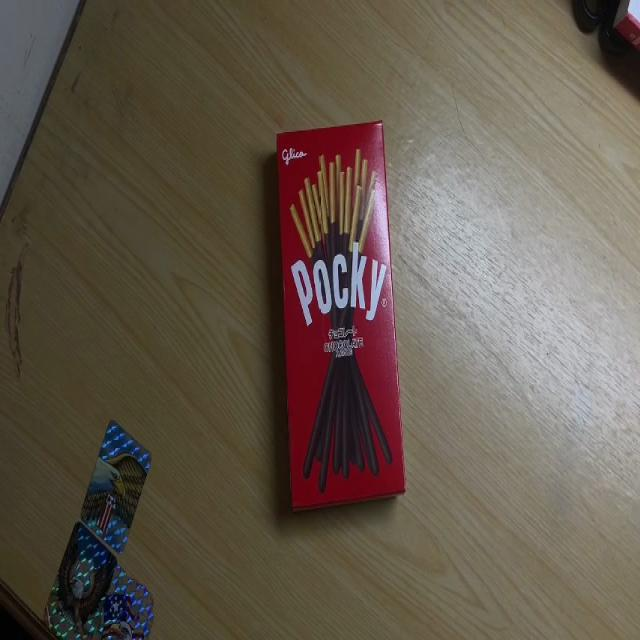Pocky: (275, 119, 410, 516)
